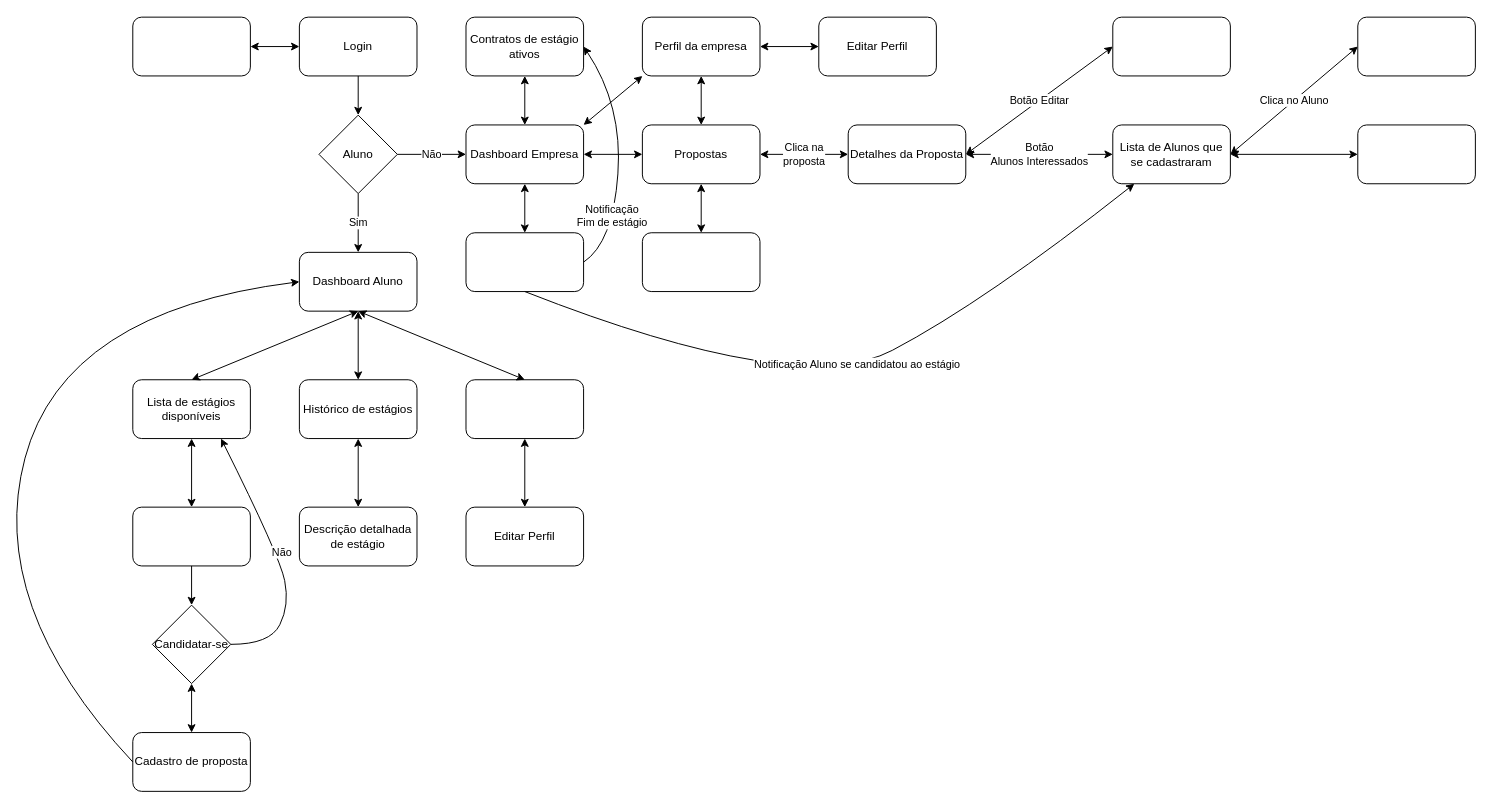
This 1494x809 diagram has some shape labels left out. The centre of each missing label's shape, as x and y in pixels:
Cadastrar: the point at 191,46
Contratar para estágio: the point at 1416,154
Criar Nova: the point at 700,262
Descrição detalhada da proposta: the point at 191,536
Editar Proposta: the point at 1171,46
Notificações: the point at 524,262
Perfil: the point at 524,409
Perfil do Aluno: the point at 1416,46
